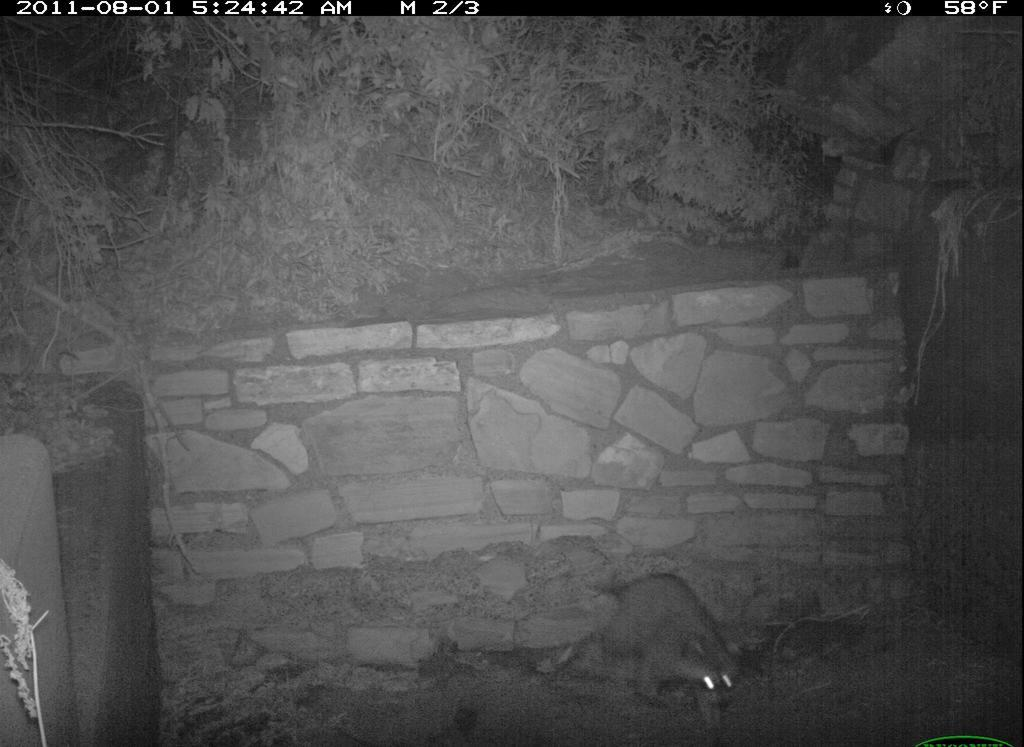raccoon: (582, 566, 751, 719)
